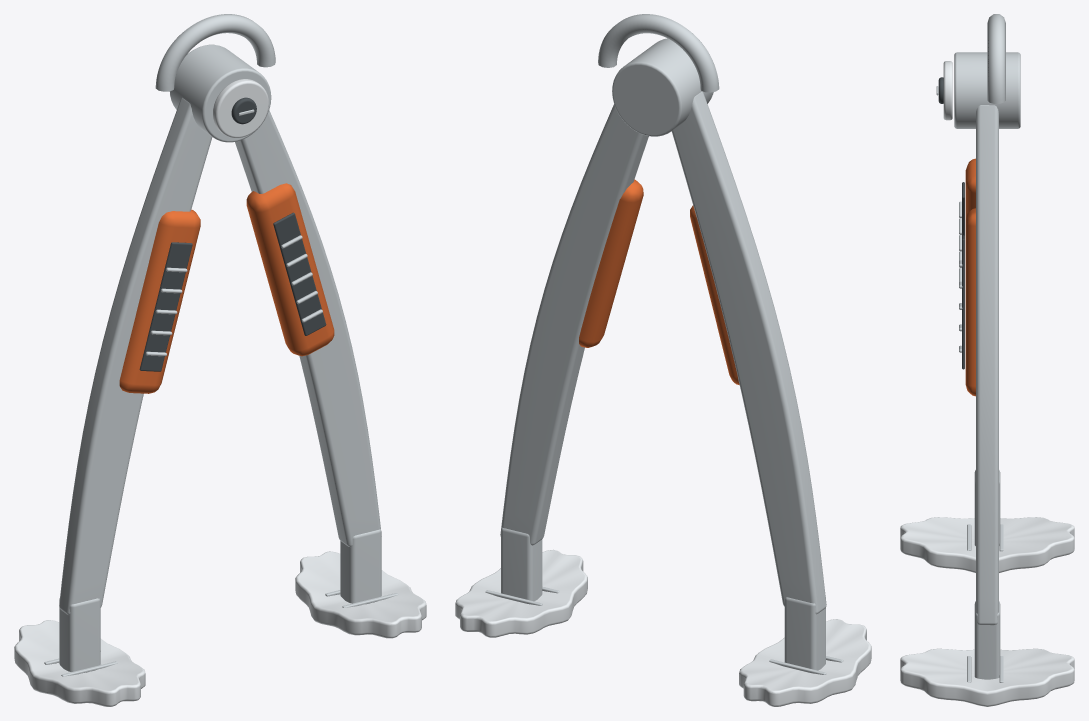
Rendered from bakery_tongs.glb.
The picture shows the model from 3 angles, left to right: view 1: azimuth 30°, elevation 25°; view 2: azimuth 150°, elevation 25°; view 3: azimuth 270°, elevation 25°; orthographic projection. The views are drawn at different scales.
Parts seen in each view (by area): view 1: Steel_arm_L, Steel_arm_R, Jaw_R, Jaw_L, Grip_sleeve_R, Grip_sleeve_L, Hinge barrel, Spring_loop, Jaw_neck_L, Jaw_neck_R, Grip_inset_L, Grip_inset_R (+1 smaller); view 2: Steel_arm_L, Steel_arm_R, Jaw_L, Jaw_R, Hinge barrel, Grip_sleeve_R, Spring_loop, Jaw_neck_L, Jaw_neck_R, Grip_sleeve_L; view 3: Steel_arm_R, Jaw_R, Jaw_L, Hinge barrel, Grip_sleeve_R, Spring_loop, Jaw_neck_R, Hinge washer, Grip_sleeve_L, Grip_inset_R, Jaw_neck_L.
Boxes of the visible parts, x1,y1,x2,y2 form: Steel_arm_L: (59, 97, 212, 615); Steel_arm_R: (235, 110, 380, 546); Jaw_R: (295, 551, 426, 638); Jaw_L: (14, 620, 145, 706); Grip_sleeve_R: (246, 183, 334, 356); Grip_sleeve_L: (119, 209, 200, 393); Hinge barrel: (170, 44, 271, 142); Spring_loop: (155, 14, 275, 91); Jaw_neck_L: (59, 598, 100, 671); Jaw_neck_R: (340, 529, 381, 603); Grip_inset_L: (139, 242, 192, 371); Grip_inset_R: (273, 212, 326, 335); Steel_arm_L: (671, 91, 826, 614); Steel_arm_R: (500, 104, 648, 545); Jaw_L: (739, 619, 871, 706); Jaw_R: (455, 549, 587, 637); Hinge barrel: (612, 38, 713, 136); Grip_sleeve_R: (579, 179, 643, 347); Spring_loop: (598, 14, 719, 92); Jaw_neck_L: (784, 597, 825, 670); Jaw_neck_R: (501, 527, 542, 601); Grip_sleeve_L: (690, 205, 739, 384); Steel_arm_R: (976, 105, 998, 625); Jaw_R: (900, 648, 1074, 706); Jaw_L: (900, 517, 1074, 572); Hinge barrel: (954, 52, 1020, 128); Grip_sleeve_R: (965, 208, 975, 396); Spring_loop: (987, 14, 1005, 103); Jaw_neck_R: (974, 601, 1000, 679); Hinge washer: (943, 61, 952, 120); Grip_sleeve_L: (965, 158, 975, 218); Grip_inset_R: (962, 235, 964, 369); Jaw_neck_L: (974, 470, 1000, 545).
Bounding box in the file's own units: 0.8126 × 1.3 × 0.3415.
